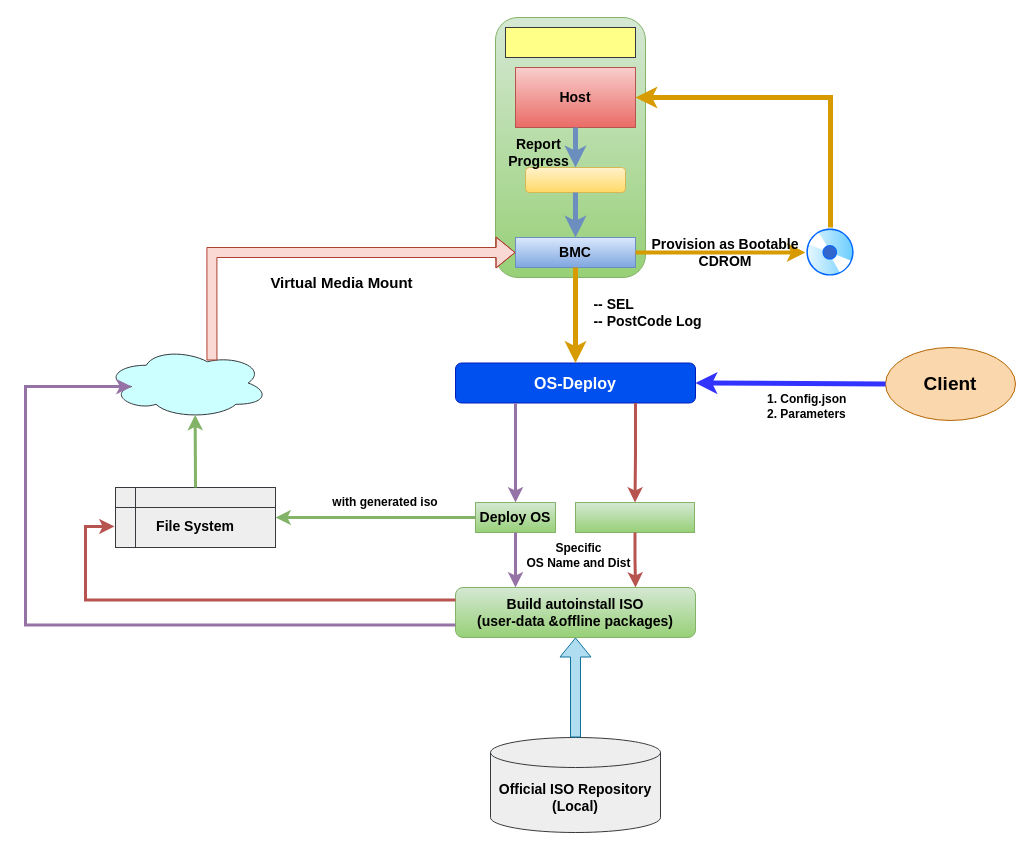
This 1033x850 diagram has some shape labels left out. The centre of each missing label's shape, as x and y in pixels:
Gen ISO Only: [634,517]
IPMI: [575,179]
NFS: [186,382]
Target Server: [570,42]
